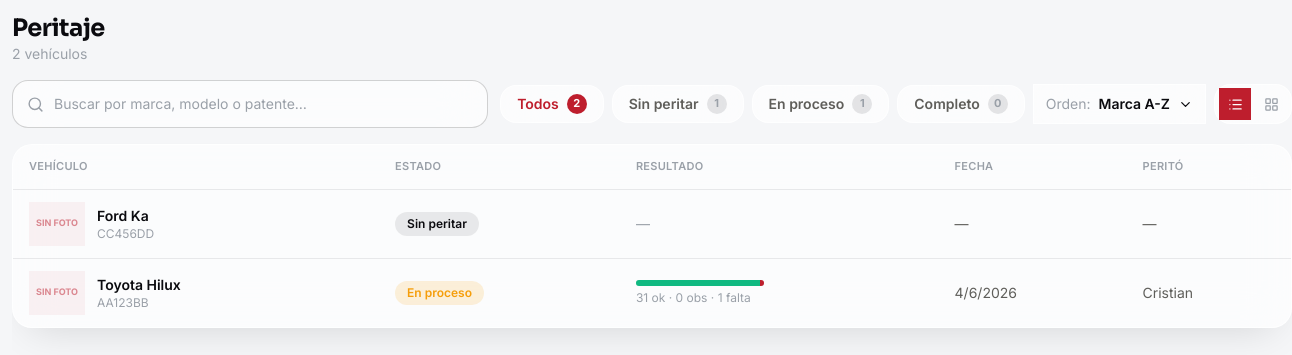
PeritajesListPage › el toggle de vista cambia a tarjetas y sigue mostrando los datos
Expected: the table is shown, [13,145,1291,327]
What coordinates should you click on to do the following:
click the button named "ver como tarjetas"
I would click on:
 (1271, 104)
Its box is [1255,88,1287,120].
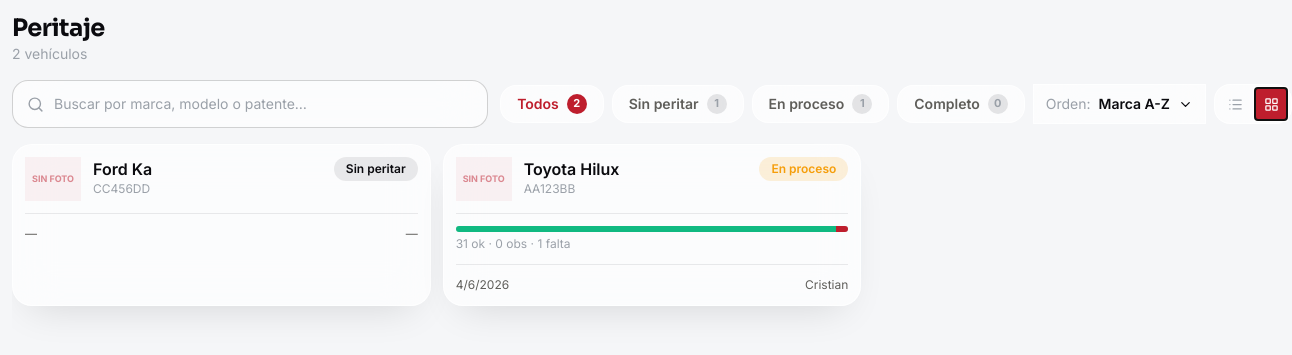
Expected: the text "Toyota Hilux" is shown, [524,159,620,179]
Result: the table is gone
